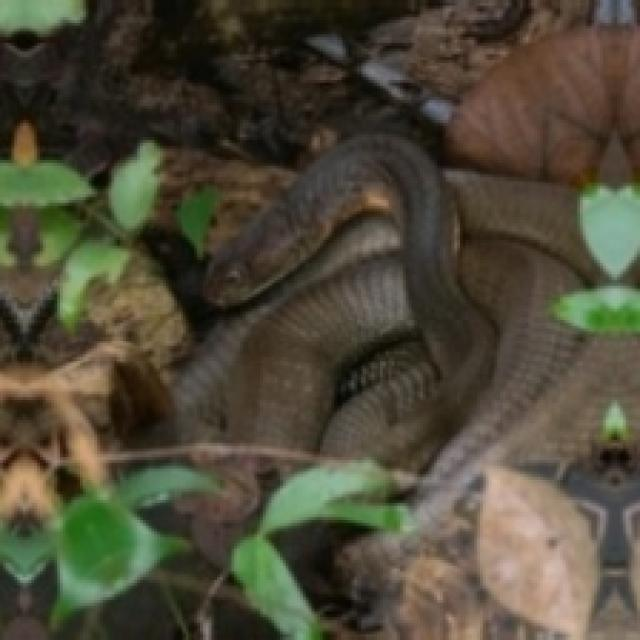king cobra: (174, 134, 637, 537), (409, 469, 597, 637)
